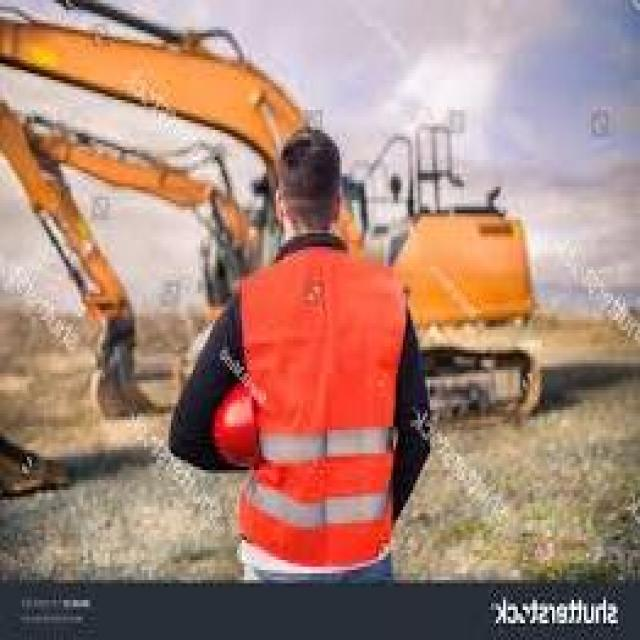Reflective-Jacket: (212, 247, 422, 583)
